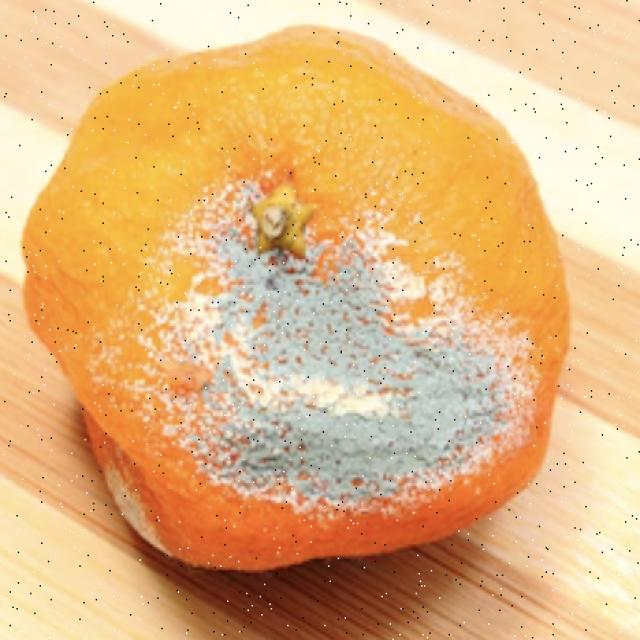Organik: (22, 18, 578, 589)
